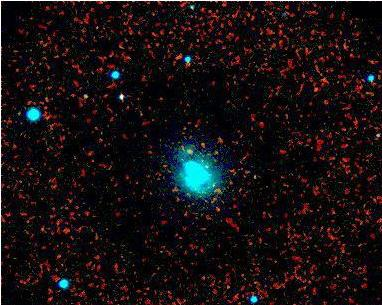star: (171, 132, 201, 162)
